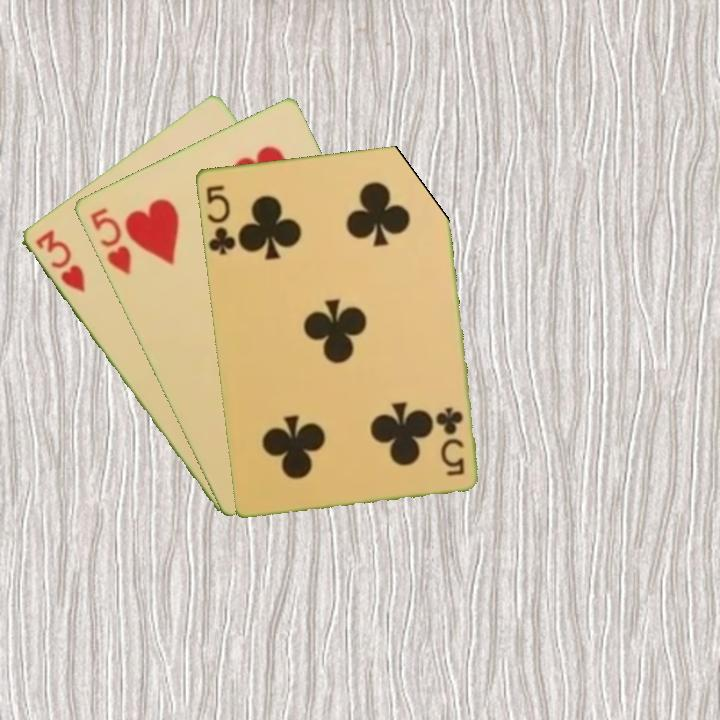3h: (31, 226, 88, 296)
5c: (202, 181, 238, 258), (433, 403, 467, 479)
5h: (86, 203, 134, 278)
